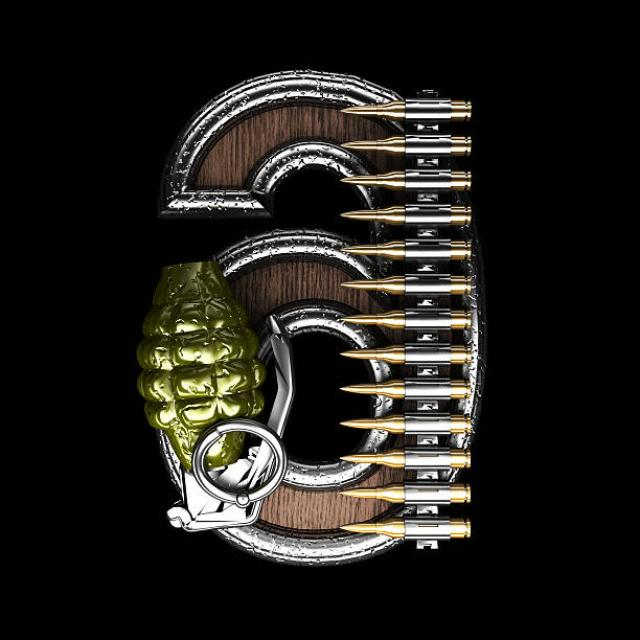grenade: (137, 254, 306, 533)
